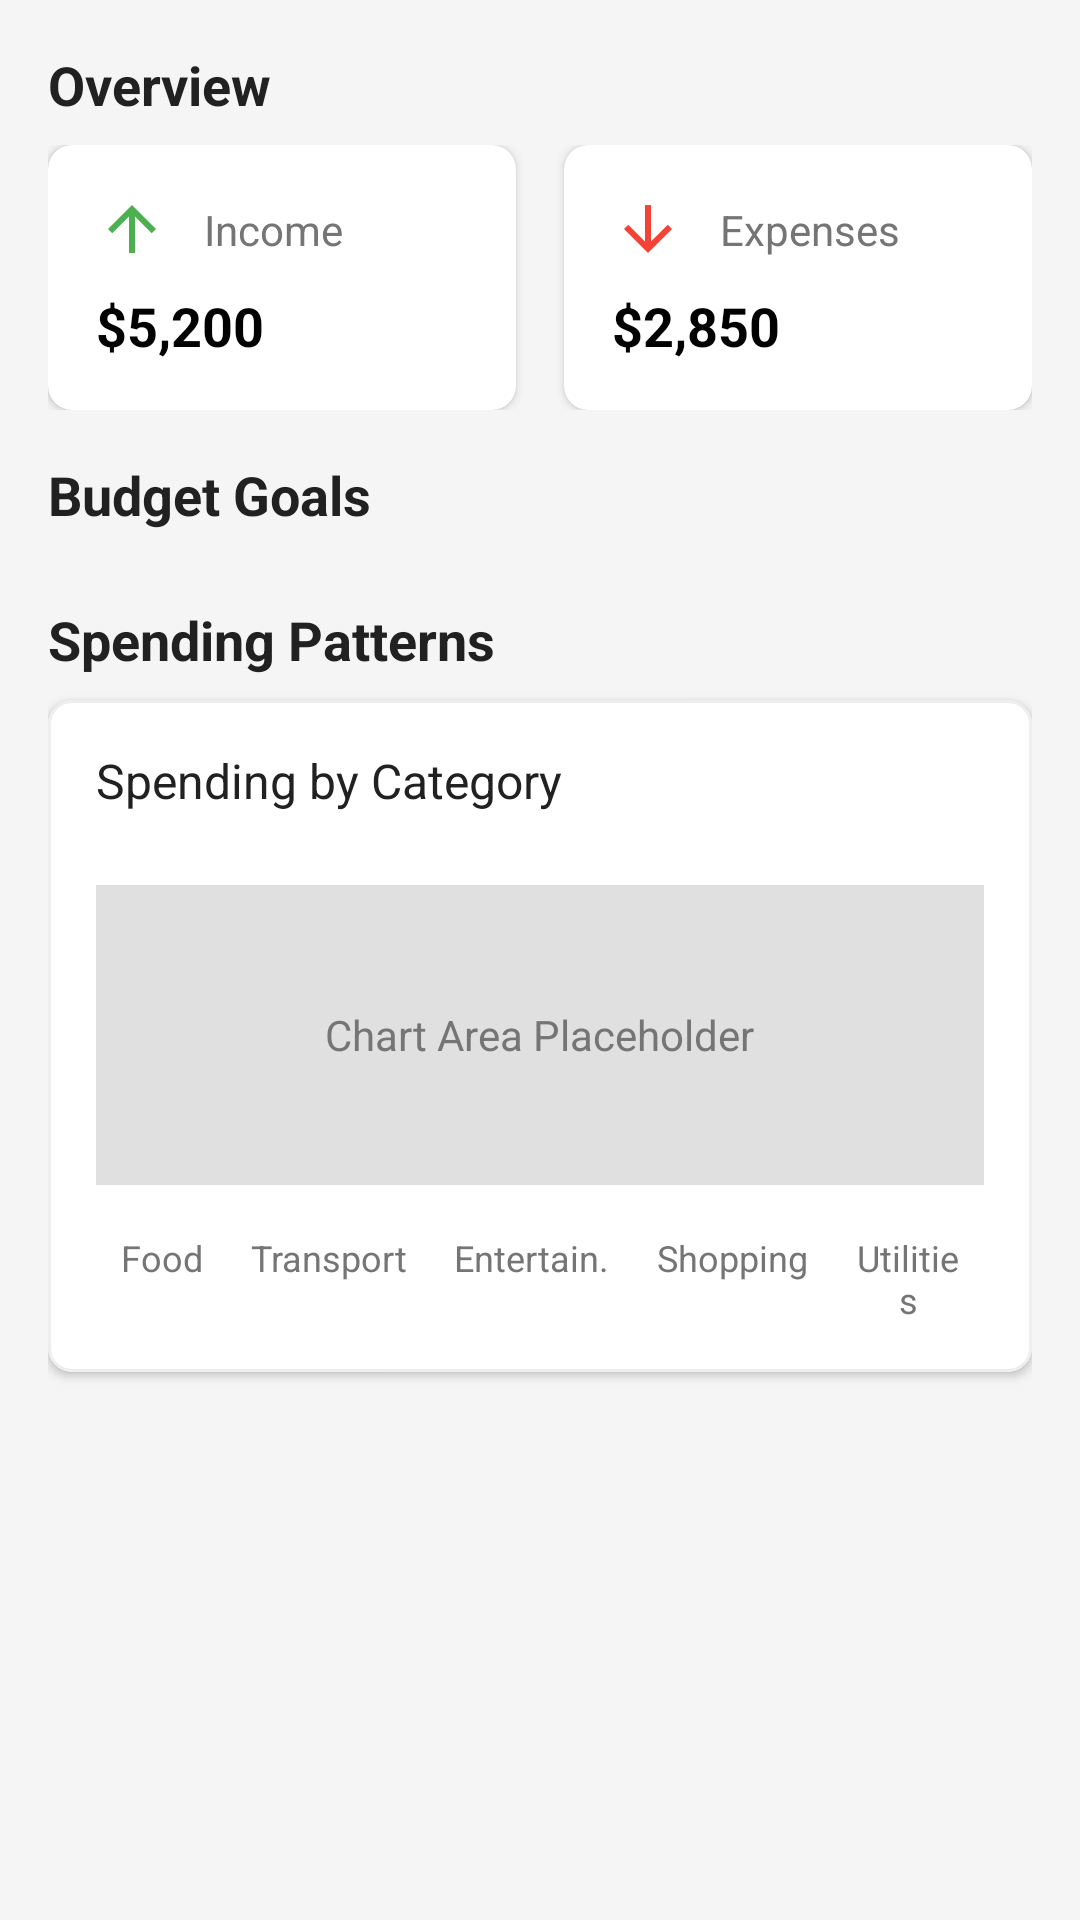

Icons on this 1080px×1920px Android screen, each with its box as {"x1": x1, "y1": y1, "x2": x2, "y2": y2}:
arrow downward: {"x1": 624, "y1": 205, "x2": 672, "y2": 253}
arrow upward: {"x1": 108, "y1": 205, "x2": 156, "y2": 253}
